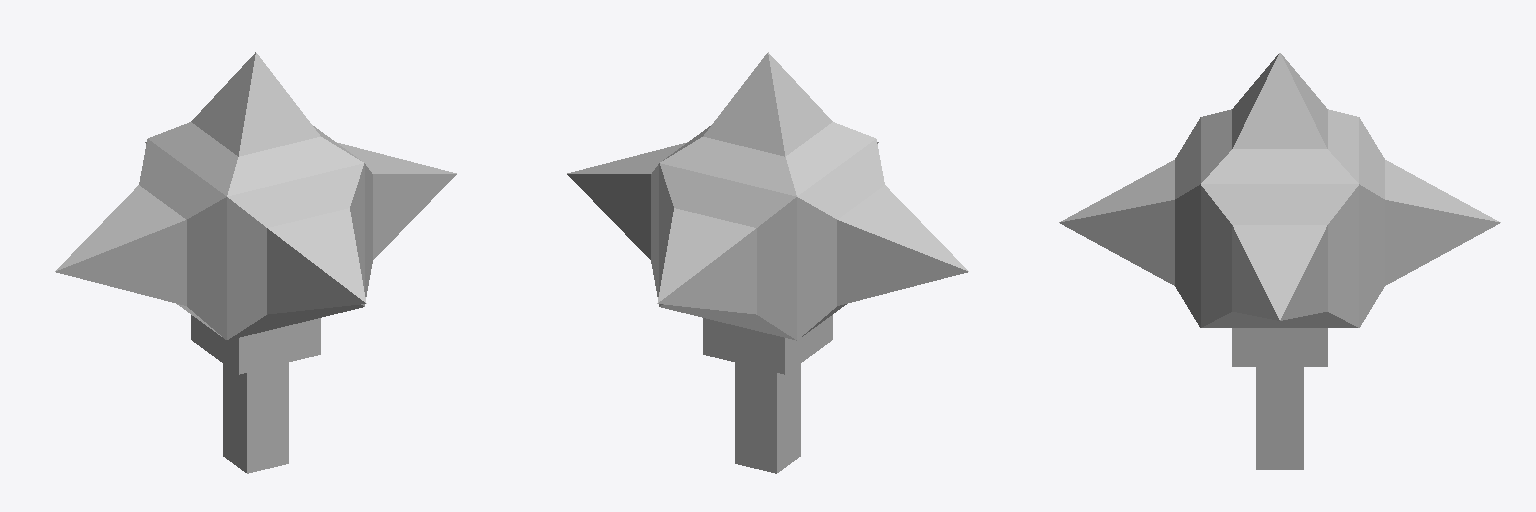
The model's file is star.obj.
3 views of the same model, side by side, from view 1: azimuth 30°, elevation 25°; view 2: azimuth 150°, elevation 25°; view 3: azimuth 270°, elevation 25° (orthographic).
Parts seen in each view (by area): view 1: Cube_Cube.001; view 2: Cube_Cube.001; view 3: Cube_Cube.001.
Boxes of the visible parts, <box> form: Cube_Cube.001: <box>55,52,456,473</box>; Cube_Cube.001: <box>567,52,968,473</box>; Cube_Cube.001: <box>1059,53,1500,469</box>.
Size of the model in its own units: 5.86 by 5.67 by 5.57.